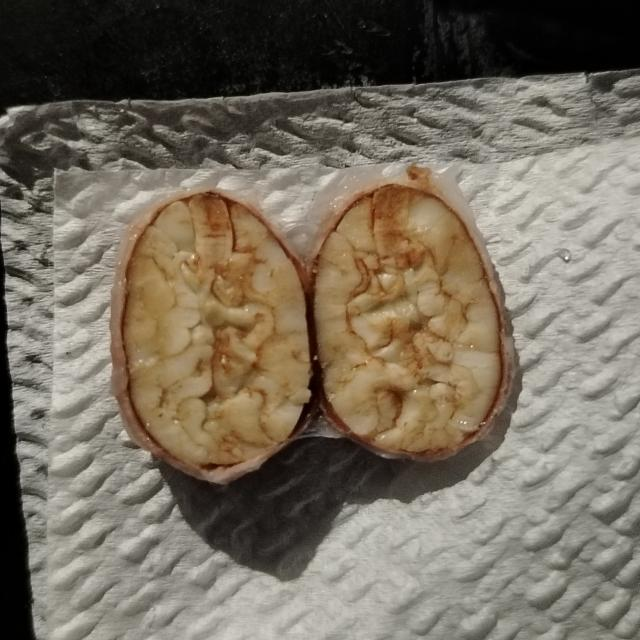Criollo: (314, 183, 504, 474), (132, 200, 307, 478)
